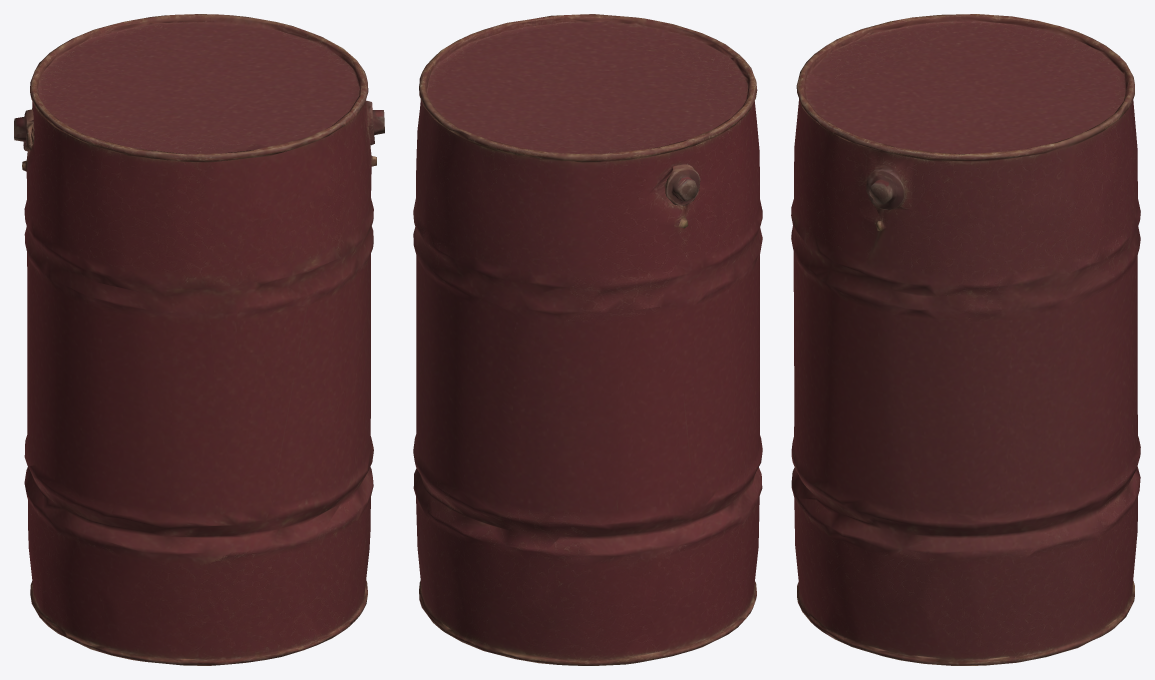
Rendered from barrel.glb.
3 views of the same model, side by side, from view 1: azimuth 30°, elevation 25°; view 2: azimuth 150°, elevation 25°; view 3: azimuth 270°, elevation 25° (orthographic).
Bounding box in the file's own units: 1.18 × 1.9 × 1.18.
1 material, 1 textured.
